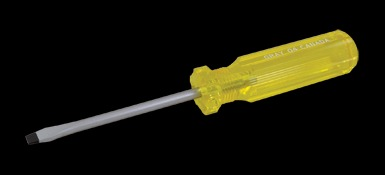screwdriver: (23, 27, 361, 146)
